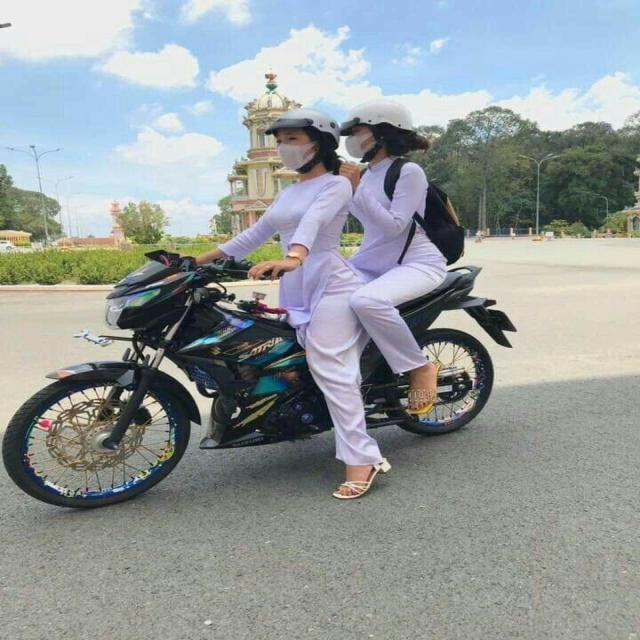motorcycle: (0, 235, 520, 511)
